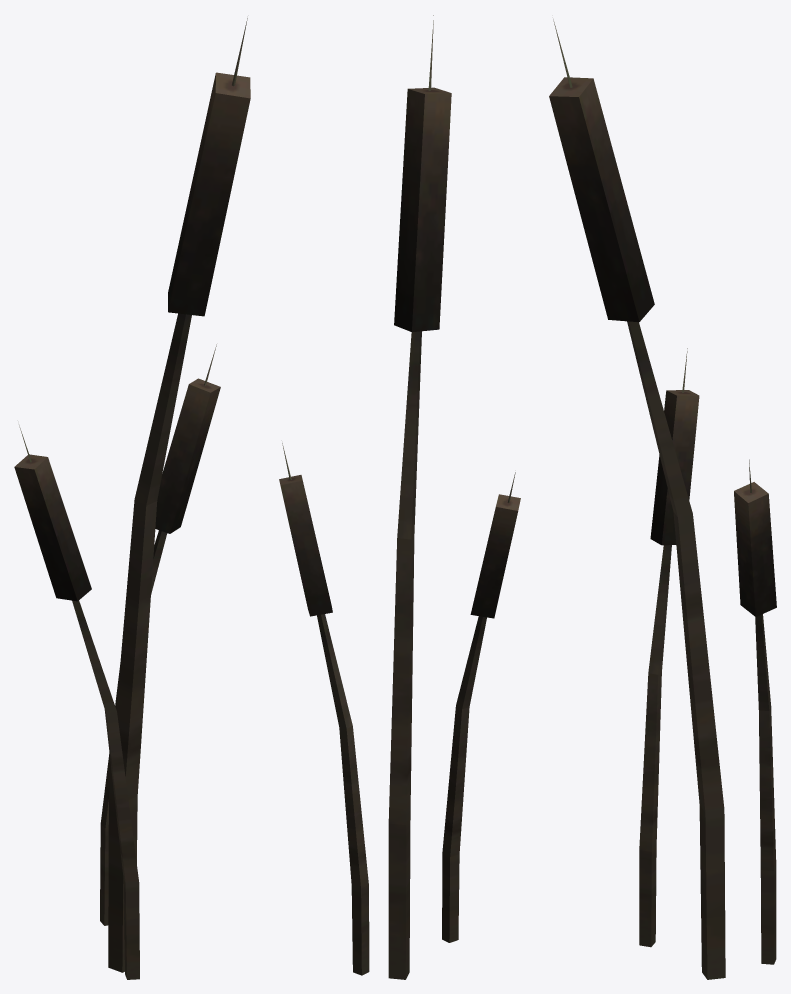
Rendered from cattail_03.fbx.
3 views of the same model, side by side, from view 1: azimuth 30°, elevation 25°; view 2: azimuth 150°, elevation 25°; view 3: azimuth 270°, elevation 25° (orthographic). The views are drawn at different scales.
Visible parts, largest first — view 1: obj0.102; view 2: obj0.102; view 3: obj0.102.
Boxes of the visible parts, box(x1,y1,x2,y2) form: obj0.102: box(14, 18, 250, 979); obj0.102: box(279, 15, 520, 979); obj0.102: box(549, 19, 776, 979).
Size of the model in its own units: 0.8527 by 3.45 by 0.7254.
